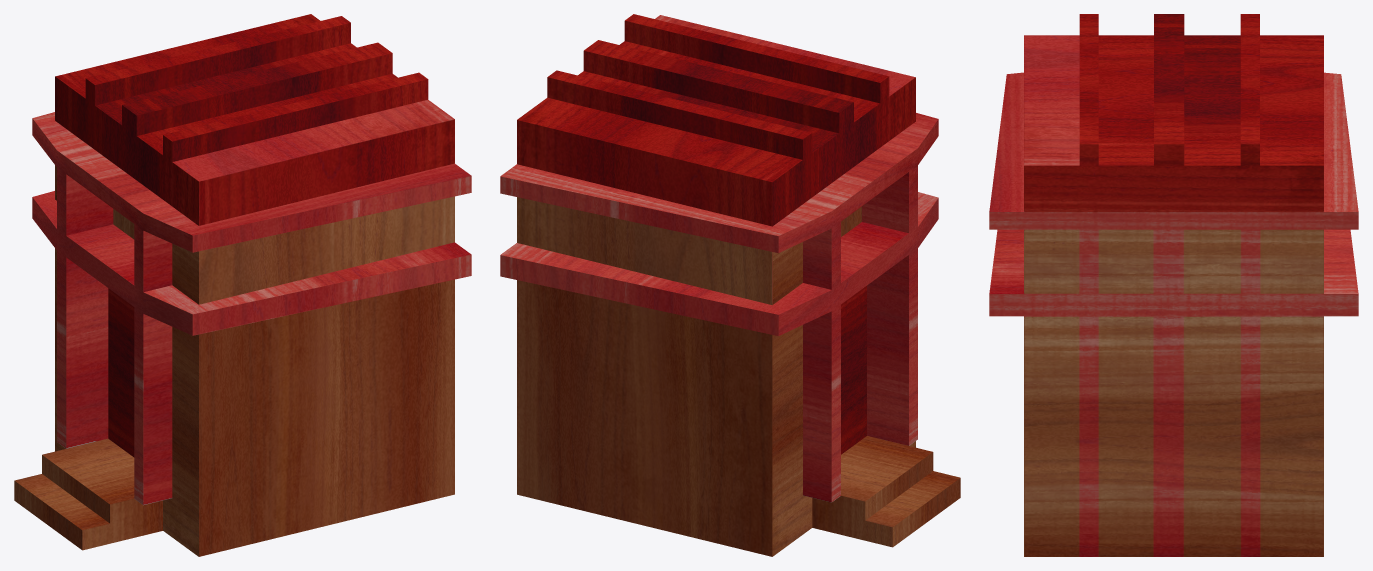
Rendered from ChaosZooCityMapTower04.fbx.
3 views of the same model, side by side, from view 1: azimuth 30°, elevation 25°; view 2: azimuth 150°, elevation 25°; view 3: azimuth 270°, elevation 25° (orthographic). The views are drawn at different scales.
Visible parts, largest first — view 1: pCube94; view 2: pCube94; view 3: pCube94.
Part boxes in pixels (x1,y1,x2,y2): pCube94: [14, 14, 471, 556]; pCube94: [500, 14, 960, 556]; pCube94: [989, 14, 1358, 556].
Bounding box in the file's own units: 53.8 × 60.43 × 49.01.
